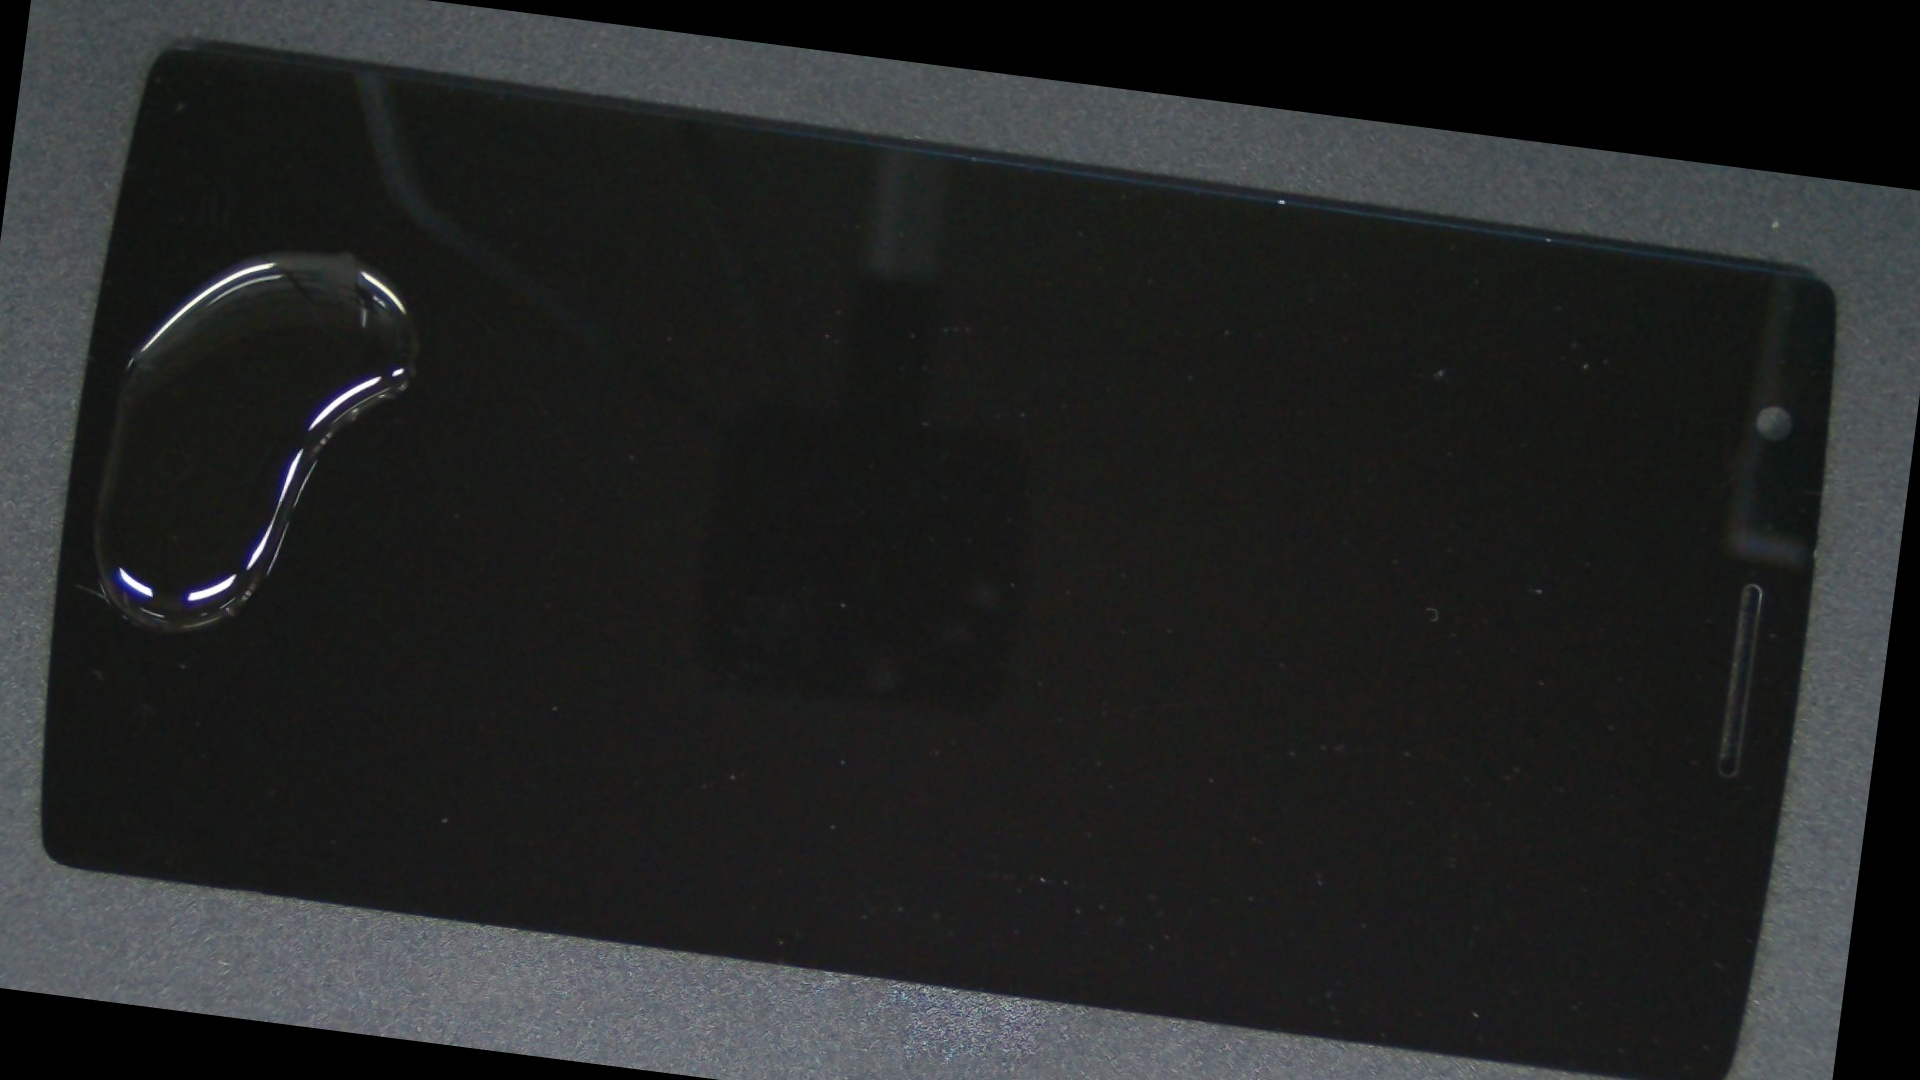oil: (157, 102, 526, 406)
